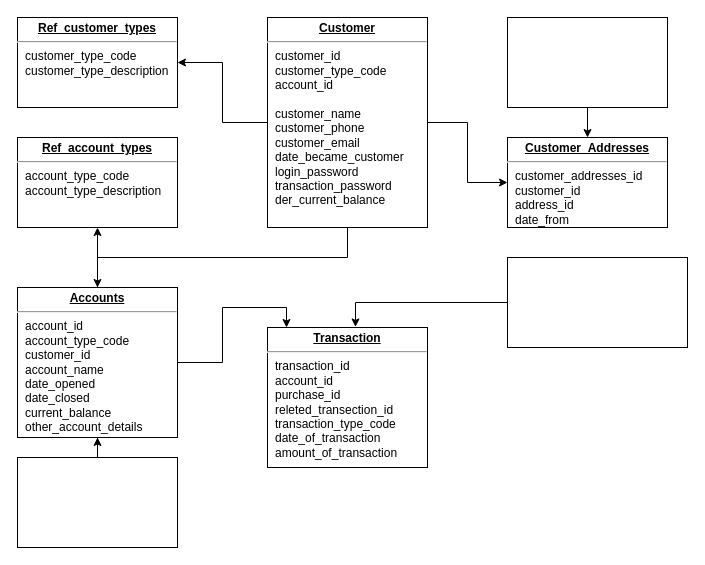
The diagram is 705 pixels wide and 565 high, and some of its shapes have lost their labels. Here are the shapes that lost their labels. From the top down, the centre of each, then its label:
At pixel 587 62: "Addresses address_id address_type_code province_country country".
At pixel 597 302: "Ref_transaction_type Transaction_type_code Transaction_type_description".
At pixel 97 502: "Balance_History account_id balance_date".
